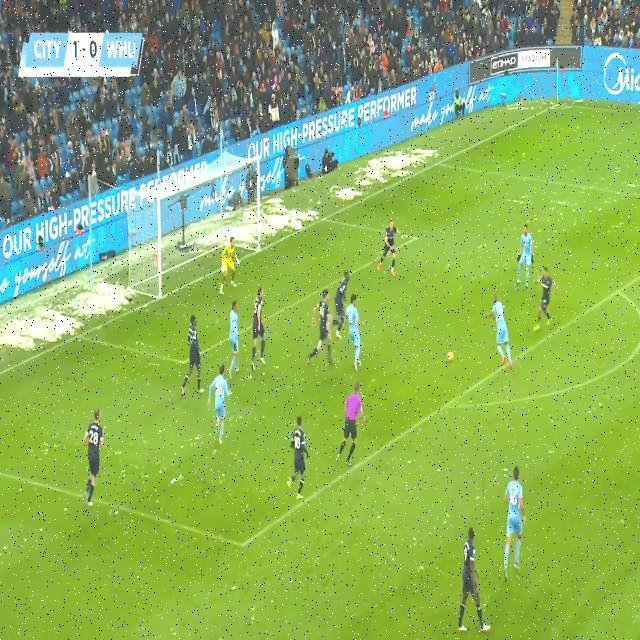ball: (446, 342, 458, 370)
goalkeeper: (220, 233, 240, 293)
player: (462, 514, 492, 634), (503, 460, 527, 572), (84, 401, 108, 507), (531, 261, 565, 335), (210, 364, 236, 458), (286, 414, 314, 497), (310, 289, 336, 378), (184, 314, 206, 402), (223, 301, 247, 381), (491, 293, 515, 370), (251, 279, 269, 375), (344, 296, 362, 376), (518, 224, 536, 294), (383, 213, 401, 279), (339, 262, 353, 328)
referee: (337, 377, 371, 466)
